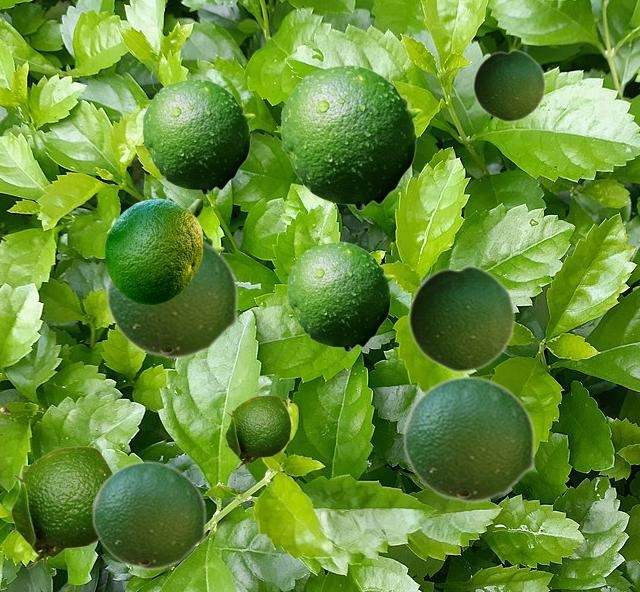dalandan: (280, 64, 421, 210), (402, 375, 535, 503), (105, 236, 238, 359), (142, 78, 254, 194), (91, 460, 206, 570), (9, 446, 112, 568), (407, 263, 515, 373), (287, 241, 394, 351), (105, 199, 201, 303), (472, 48, 545, 122), (224, 395, 290, 469), (202, 227, 223, 251)
